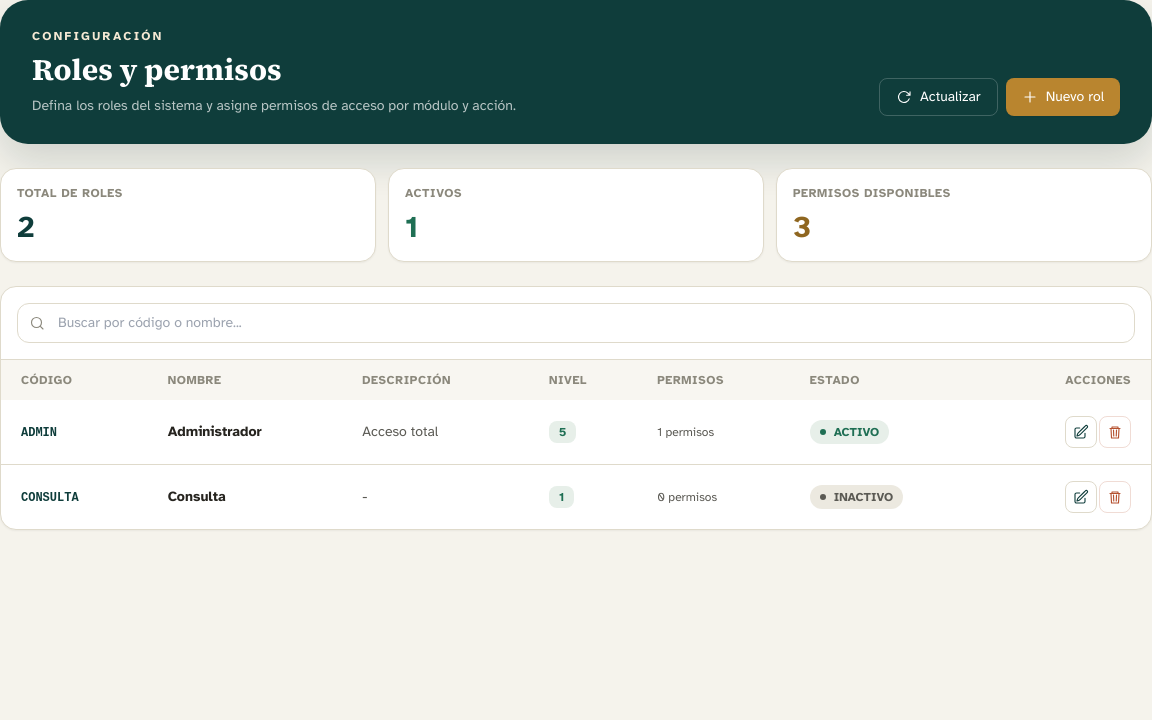
Test case: RolesPage › muestra un error cuando la eliminación falla
Expected: the text "Administrador" is shown, [168,423,262,440]
Click the button named "Eliminar" in the row of "Administrador" at x=1115, y=432, box [1099,416,1131,448]
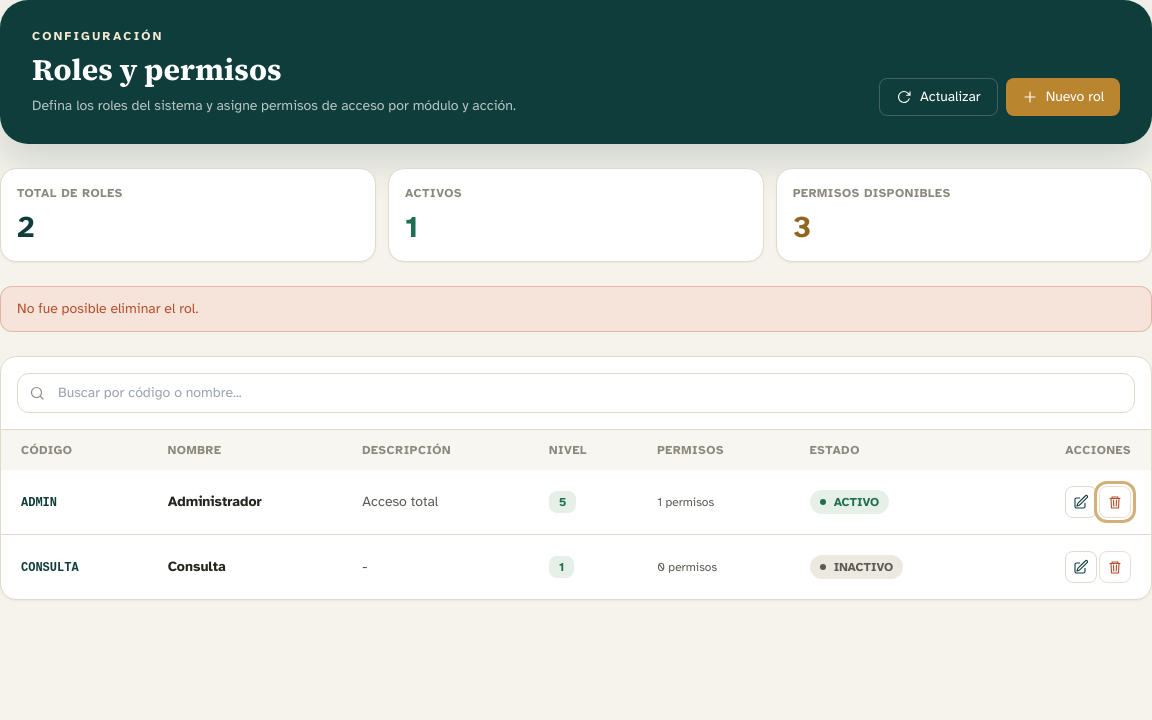
Now the text "No fue posible eliminar el rol." is shown, box [0,286,1151,332]
